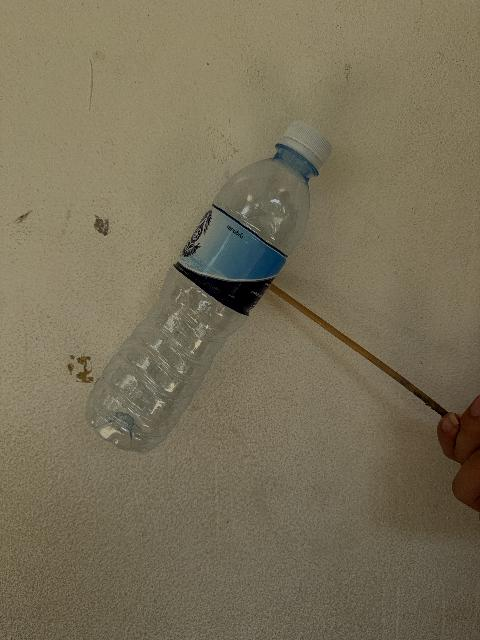bottle: (86, 123, 330, 452)
